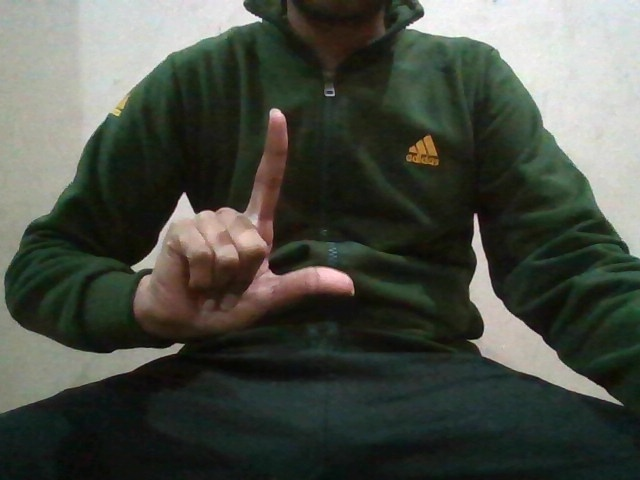L: (146, 108, 362, 335)
